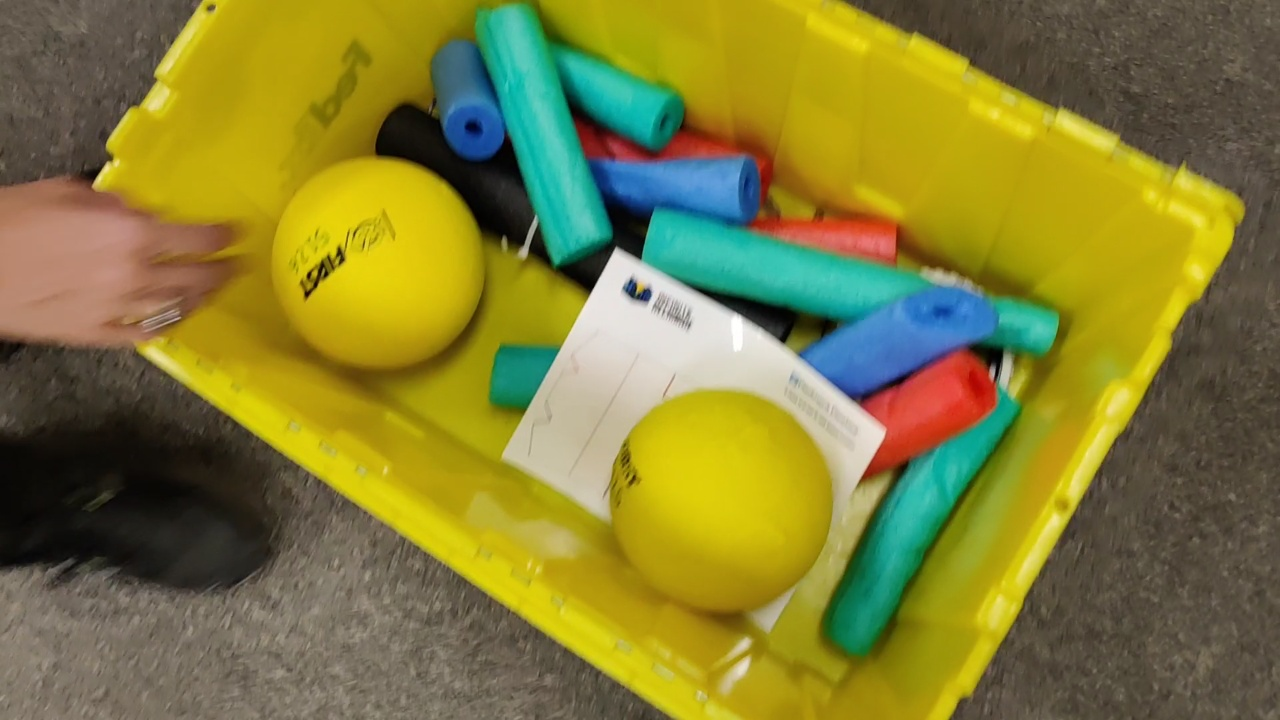Ball: (606, 388, 830, 610), (268, 156, 488, 367)
